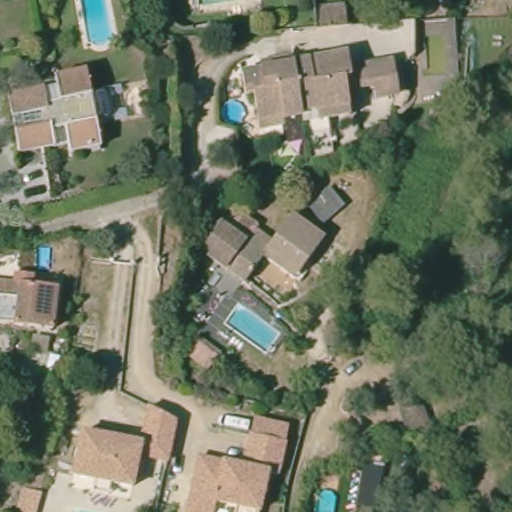pool: (221, 298, 286, 360), (70, 1, 125, 51), (26, 242, 58, 273), (310, 482, 341, 512), (218, 100, 252, 127)
